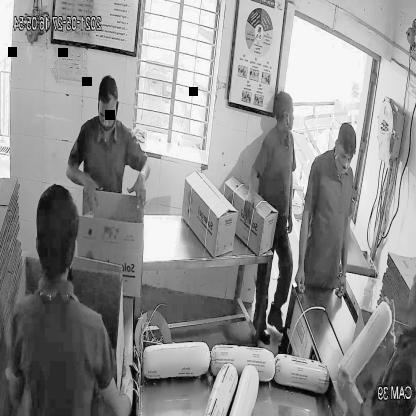no_goggles: (95, 102, 120, 128), (330, 147, 358, 170)
